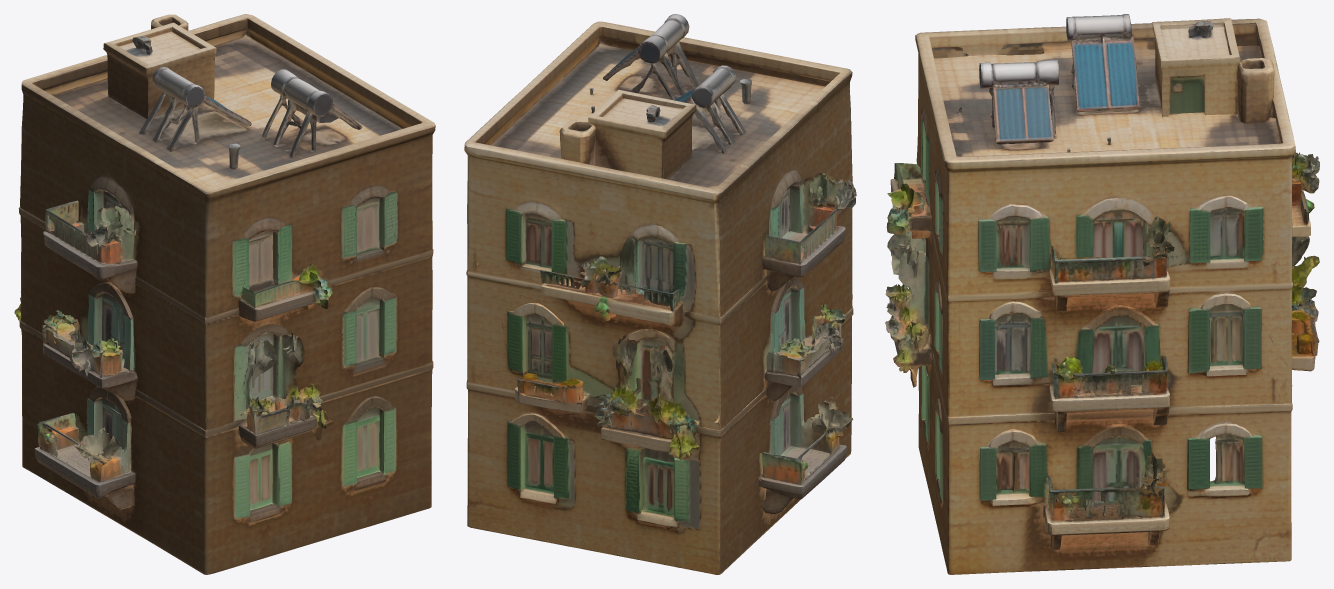
The model's file is jer_apartment_a.glb.
3 renders of one model, left to right at view 1: azimuth 30°, elevation 25°; view 2: azimuth 150°, elevation 25°; view 3: azimuth 270°, elevation 25°, orthographic. The views are drawn at different scales.
Visible parts, largest first — view 1: geometry_0; view 2: geometry_0; view 3: geometry_0.
Part boxes in pixels (x1,y1,x2,y2): geometry_0: [14, 14, 435, 574]; geometry_0: [464, 14, 856, 574]; geometry_0: [885, 14, 1319, 574].
Bounding box in the file's own units: 11.66 × 14 × 11.96.
1 material, 1 textured.
